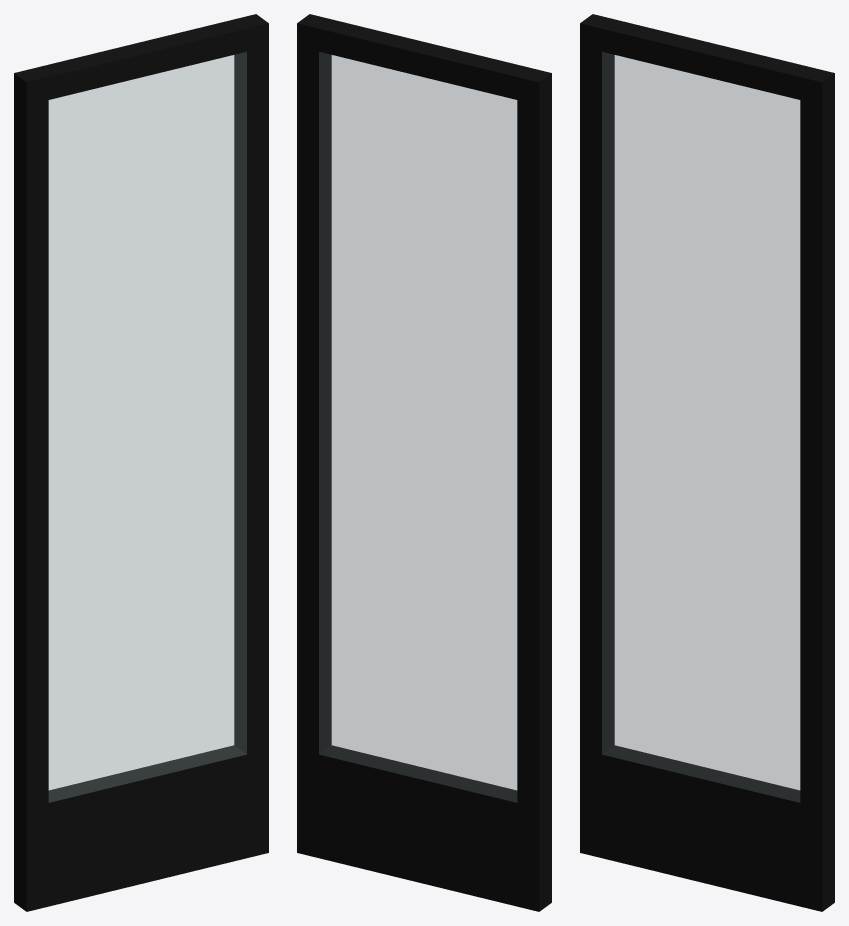
Rendered from articulated_bus_door_fwd.glb.
The picture shows the model from 3 angles, left to right: view 1: azimuth 30°, elevation 25°; view 2: azimuth 150°, elevation 25°; view 3: azimuth 330°, elevation 25°; orthographic projection.
Visible parts, largest first — view 1: body:compound; view 2: body:compound; view 3: body:compound.
Boxes of the visible parts, <box> form: body:compound: <box>14,14,268,911</box>; body:compound: <box>297,14,551,911</box>; body:compound: <box>580,14,834,911</box>.
Size of the model in its own units: 0.6875 by 2.25 by 0.0625.
